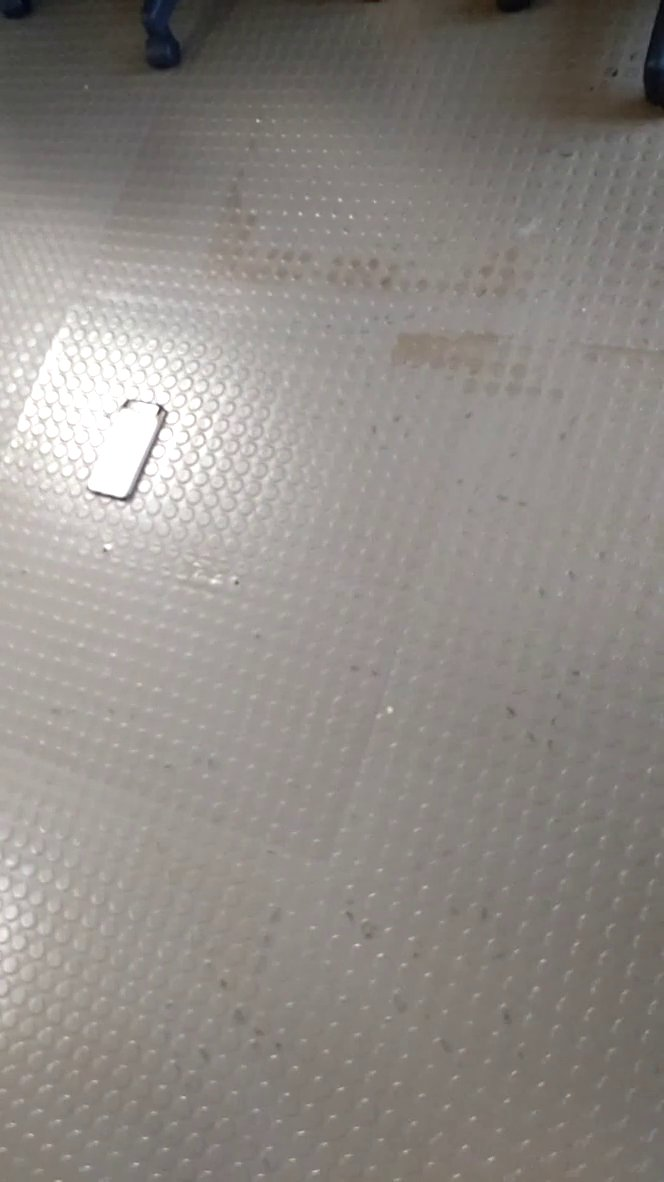phone: (85, 390, 173, 508)
